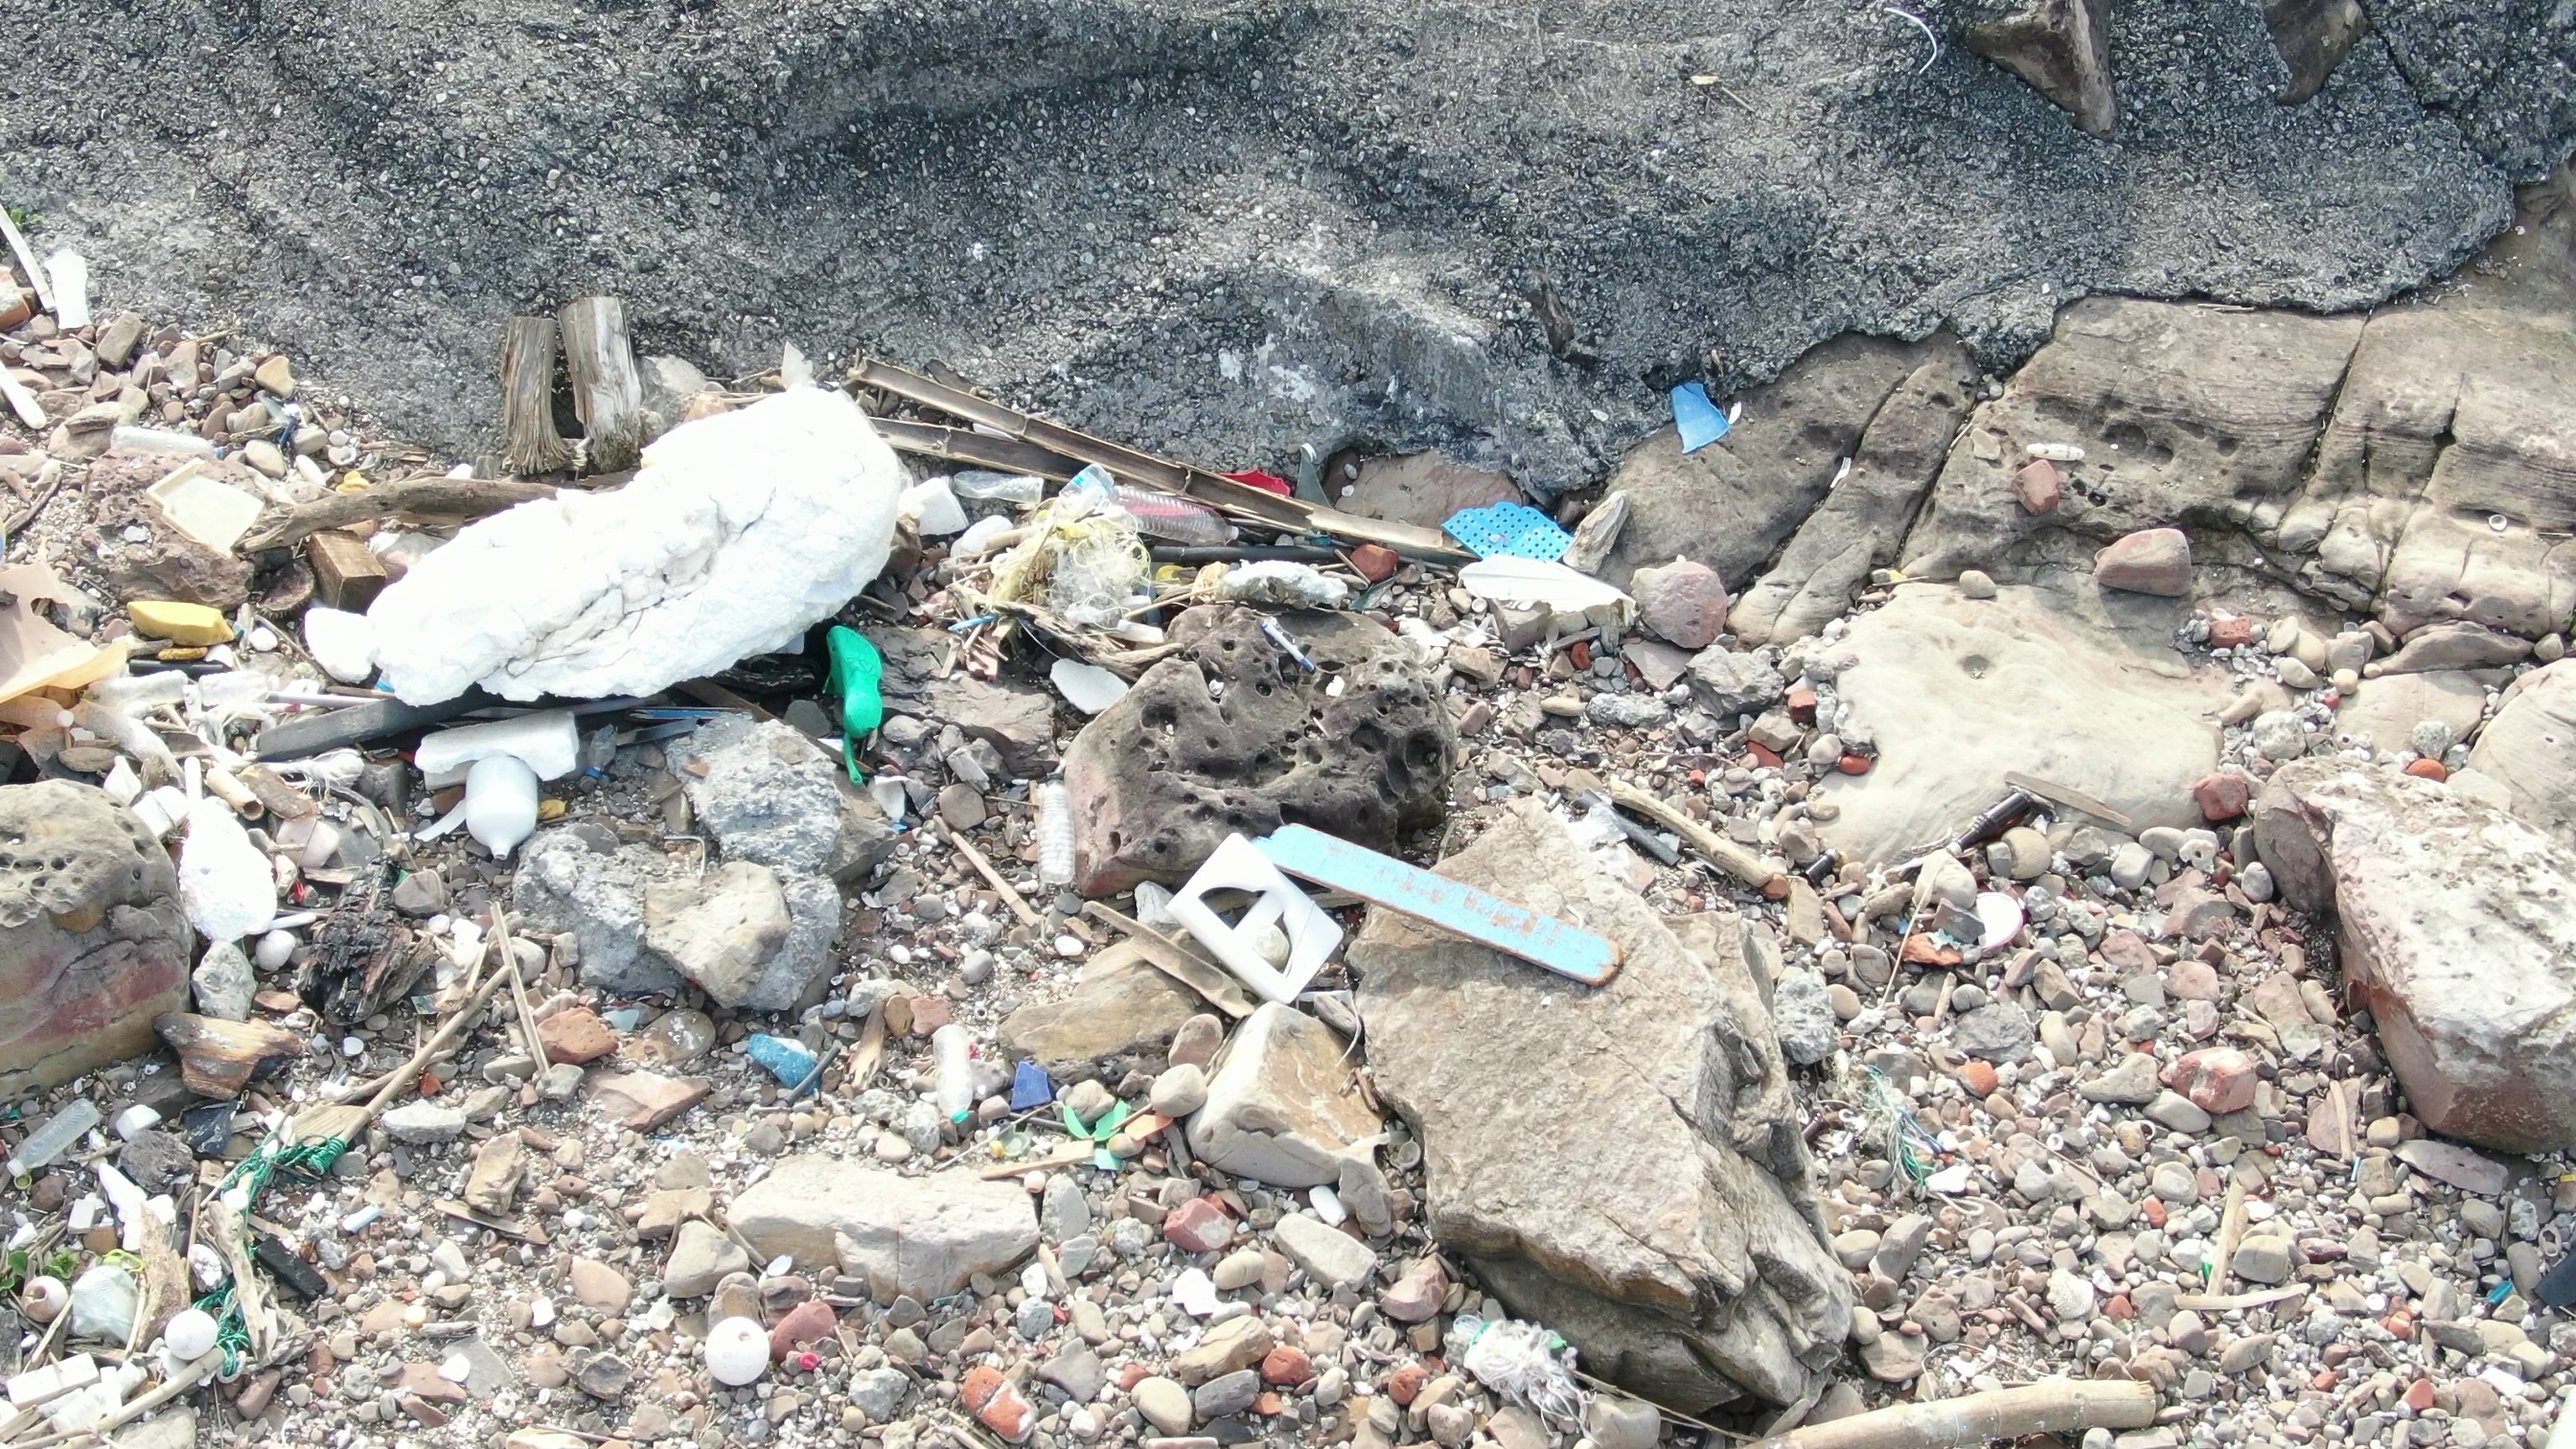bottle: (2, 1085, 120, 1191), (156, 465, 267, 557), (924, 1026, 982, 1138), (1060, 1079, 1136, 1157), (1010, 1053, 1056, 1116)
garbage: (359, 349, 922, 870), (1152, 809, 1642, 1014), (168, 1118, 363, 1394), (968, 448, 1157, 653), (1433, 1293, 1614, 1431), (1169, 543, 1359, 614), (1444, 487, 1585, 577), (734, 1030, 842, 1116), (1663, 372, 1739, 460)
